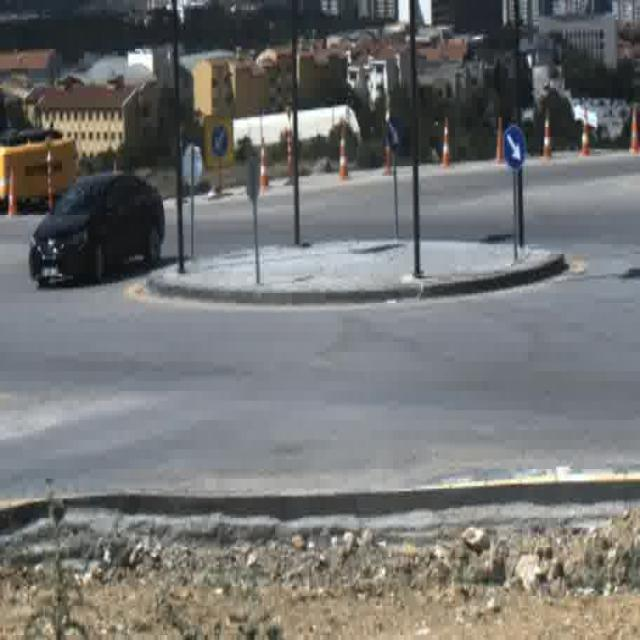Car: (28, 170, 164, 292)
